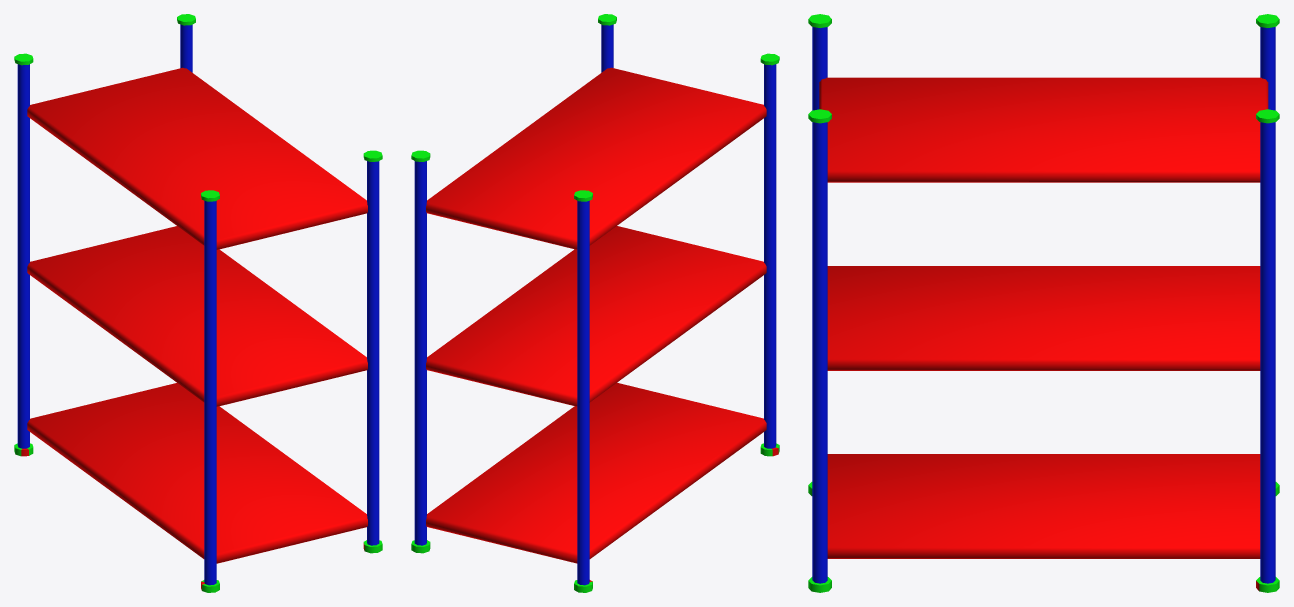
Rendered from Metal_shef.fbx.
The picture shows the model from 3 angles, left to right: view 1: azimuth 30°, elevation 25°; view 2: azimuth 150°, elevation 25°; view 3: azimuth 270°, elevation 25°; orthographic projection. The views are drawn at different scales.
Visible parts, largest first — view 1: Metal_shef; view 2: Metal_shef; view 3: Metal_shef.
Part boxes in pixels (left/top/right/bottom): Metal_shef: left=14, top=14, right=382, bottom=592; Metal_shef: left=411, top=14, right=779, bottom=592; Metal_shef: left=808, top=14, right=1279, bottom=592.
Bounding box in the file's own units: 48.07 × 101 × 90.97.
